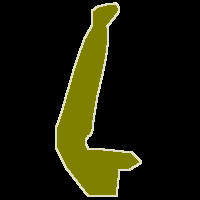tie: (56, 2, 141, 196)
